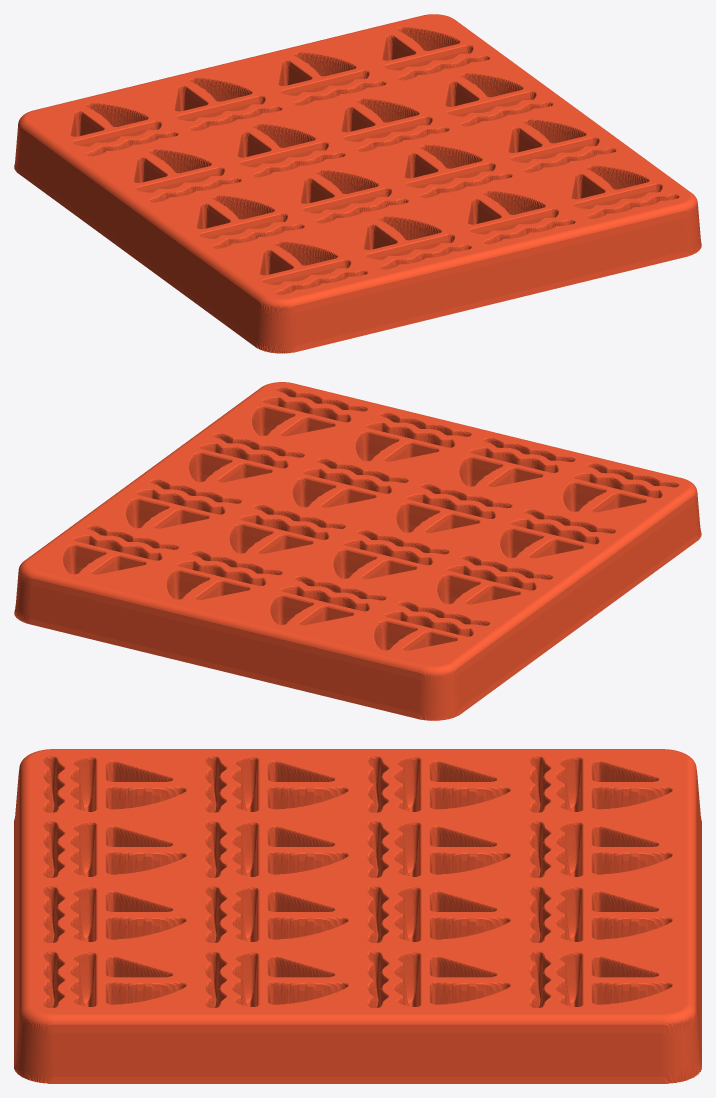
File: mold.glb
3 views of the same model, one above another, from view 1: azimuth 30°, elevation 25°; view 2: azimuth 150°, elevation 25°; view 3: azimuth 270°, elevation 25° (orthographic). The views are drawn at different scales.
Parts seen in each view (by area): view 1: geometry_0; view 2: geometry_0; view 3: geometry_0.
Part boxes in pixels (bbox=[...]): geometry_0: bbox=[14, 14, 701, 353]; geometry_0: bbox=[14, 382, 701, 720]; geometry_0: bbox=[14, 749, 701, 1083].
Size of the model in its own units: 0.1496 by 0.0159 by 0.1569.
